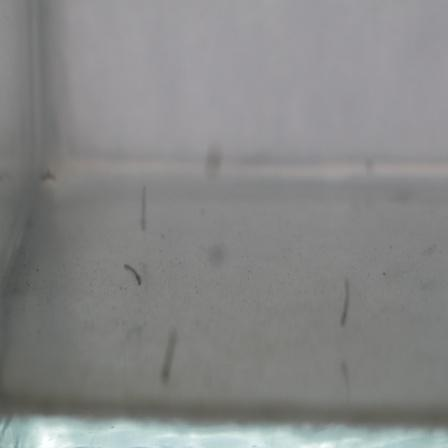Jentik-Nyamuk: (120, 257, 146, 289)
